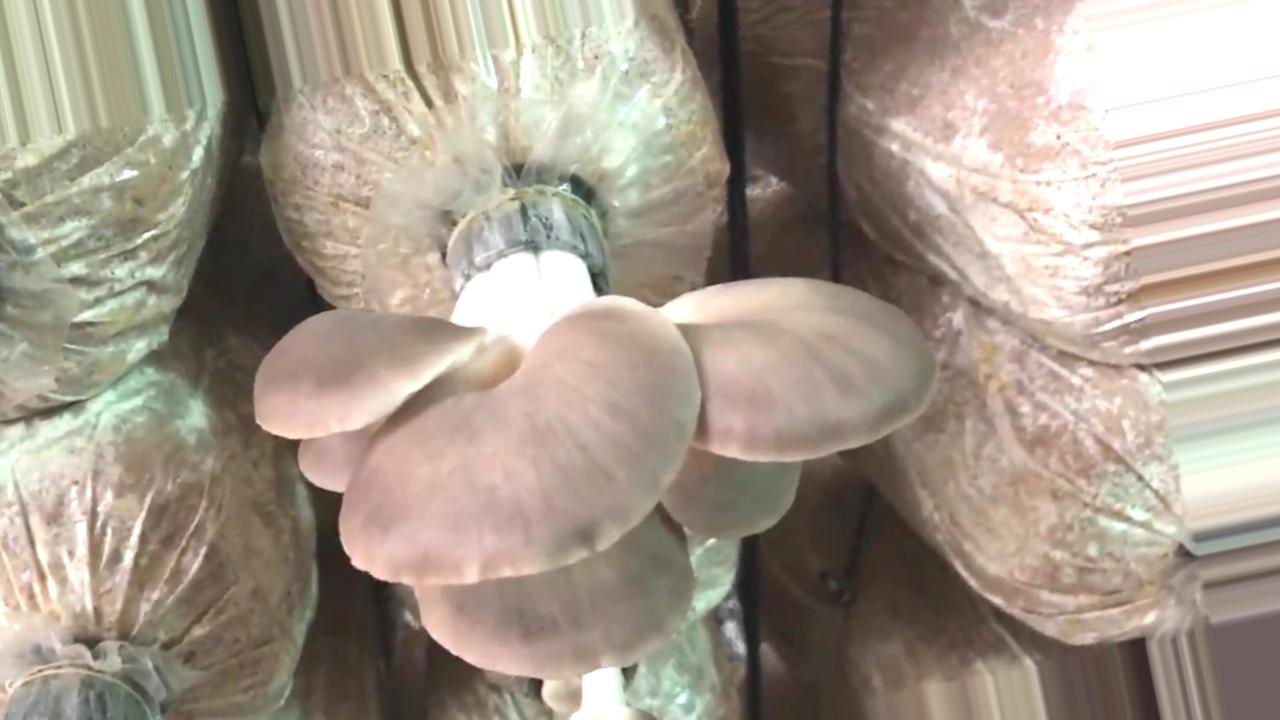nam: (256, 190, 936, 680)
